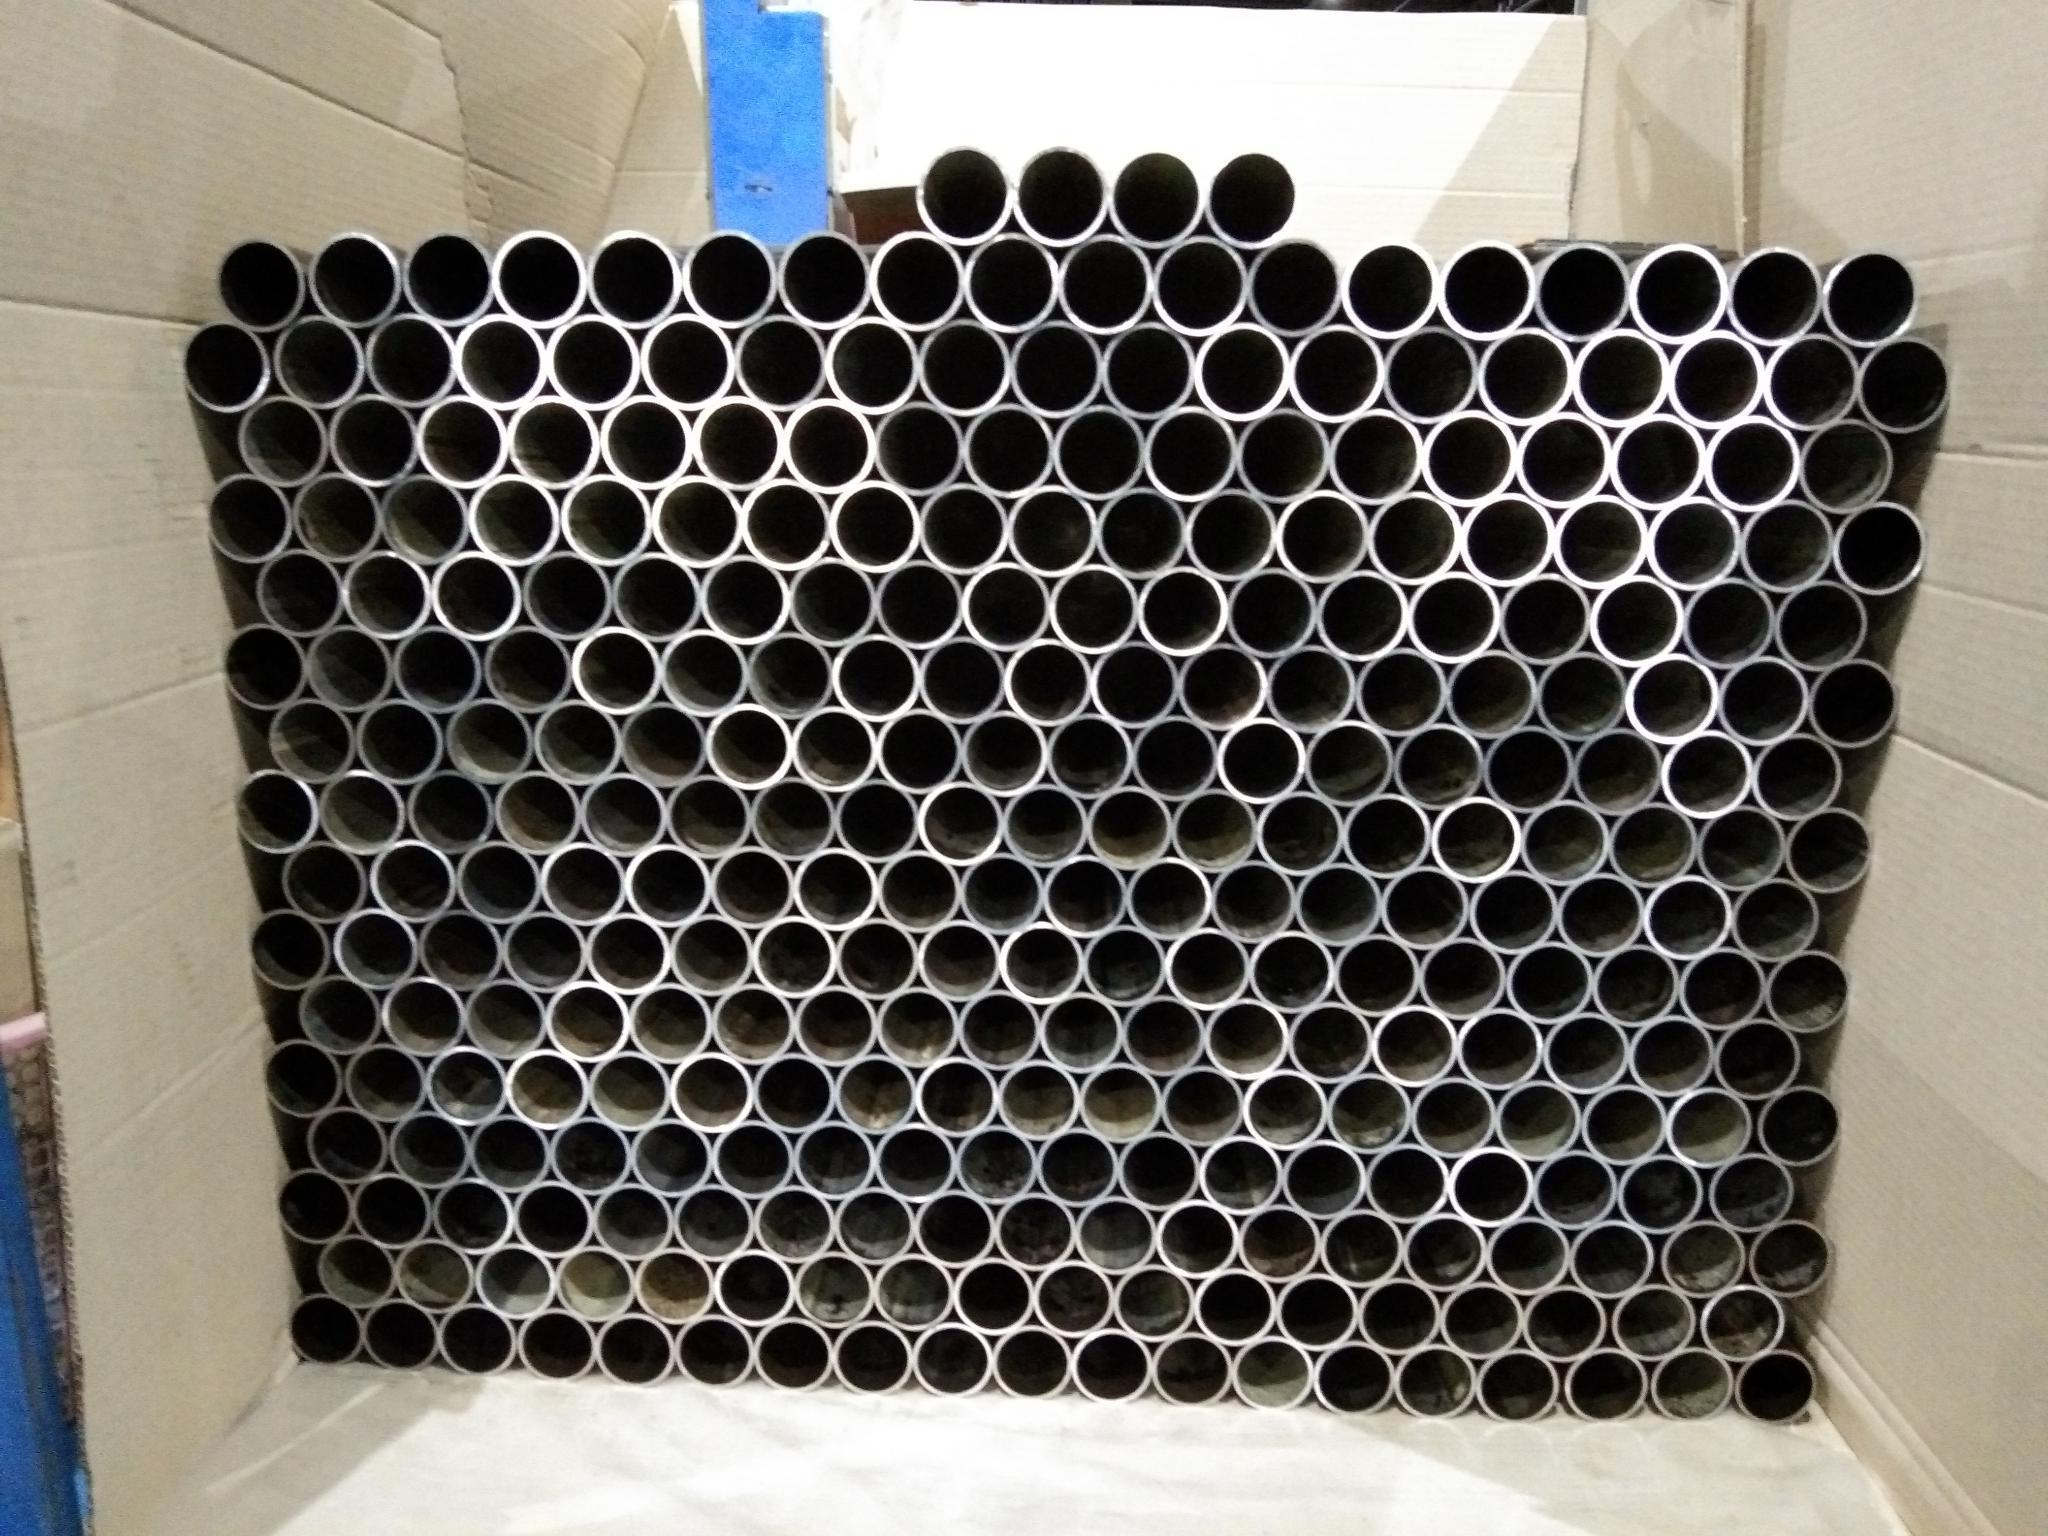pipe: (1629, 240, 1727, 344), (1013, 139, 1109, 244), (1203, 144, 1301, 245), (1108, 144, 1205, 247), (1151, 232, 1248, 336), (1247, 232, 1343, 336), (918, 139, 1013, 244), (1822, 245, 1921, 345), (1667, 328, 1766, 428), (1725, 244, 1822, 345), (585, 229, 684, 328), (1342, 236, 1438, 336), (1438, 237, 1535, 337), (1534, 240, 1630, 340), (1382, 323, 1479, 423), (1572, 326, 1669, 426), (1856, 332, 1953, 432), (964, 231, 1059, 332), (1763, 329, 1858, 431), (1056, 232, 1151, 332), (1193, 319, 1288, 419), (1477, 324, 1572, 424), (211, 234, 308, 331), (684, 227, 779, 326), (402, 227, 497, 326), (777, 229, 872, 328), (1288, 323, 1384, 421), (1235, 405, 1330, 503), (1421, 408, 1516, 507), (1609, 411, 1705, 510), (1705, 413, 1800, 511), (1738, 495, 1834, 594), (871, 231, 964, 331), (734, 311, 827, 411), (918, 316, 1011, 416), (1101, 319, 1195, 419), (640, 311, 735, 408), (1516, 410, 1611, 507), (1459, 490, 1555, 587), (1645, 494, 1740, 591), (495, 229, 589, 328), (547, 311, 640, 410), (1143, 403, 1237, 502), (1009, 316, 1101, 416), (598, 394, 693, 489), (1366, 489, 1461, 584), (1553, 494, 1648, 589), (1680, 574, 1775, 670), (310, 231, 403, 328), (455, 311, 548, 408), (1329, 407, 1422, 503), (1798, 415, 1892, 511), (826, 315, 918, 413), (782, 395, 874, 494), (273, 313, 366, 408), (179, 316, 273, 411), (1053, 403, 1147, 499), (1276, 487, 1369, 582), (1834, 499, 1927, 594), (1406, 570, 1501, 663), (364, 311, 456, 408), (872, 399, 964, 495), (963, 400, 1055, 497), (506, 394, 600, 487), (1498, 571, 1592, 665), (1590, 573, 1684, 666), (1774, 578, 1867, 671), (692, 395, 784, 490), (1095, 482, 1187, 578), (1185, 486, 1277, 581), (327, 392, 419, 486), (561, 473, 653, 566), (829, 479, 921, 573), (1314, 568, 1408, 660), (1535, 649, 1629, 741), (1006, 482, 1097, 578), (239, 394, 331, 486), (610, 552, 701, 644), (482, 623, 574, 715), (1625, 652, 1717, 744), (1717, 653, 1809, 745), (1808, 657, 1900, 749), (1571, 724, 1663, 816), (418, 394, 508, 487), (381, 471, 471, 565), (469, 473, 560, 566), (918, 481, 1008, 574), (1480, 721, 1574, 812), (653, 474, 743, 566), (742, 478, 832, 570), (431, 549, 522, 639), (522, 549, 613, 641), (1137, 565, 1229, 655), (1226, 565, 1316, 657), (392, 623, 484, 713), (1355, 645, 1447, 736), (1443, 649, 1535, 739), (293, 470, 382, 563), (343, 549, 434, 639), (1663, 728, 1753, 818), (1751, 729, 1842, 820), (1050, 561, 1138, 653), (1392, 721, 1484, 810), (1729, 874, 1821, 963), (206, 471, 293, 565), (256, 547, 345, 637), (700, 553, 789, 644), (787, 557, 877, 645), (876, 558, 964, 649), (963, 560, 1051, 650), (572, 624, 661, 715), (747, 629, 835, 720), (832, 631, 921, 721), (918, 632, 1006, 723), (1090, 637, 1179, 728), (1177, 641, 1266, 731), (1264, 644, 1355, 733), (445, 695, 535, 784), (1303, 718, 1393, 807), (1695, 803, 1787, 891), (305, 623, 393, 712), (660, 628, 748, 716), (1005, 637, 1093, 726), (619, 699, 708, 787), (1218, 715, 1306, 803), (579, 770, 668, 858), (1256, 787, 1345, 876), (219, 623, 310, 710), (269, 695, 356, 786), (406, 768, 497, 855), (1430, 795, 1521, 883), (1519, 799, 1609, 886), (1606, 800, 1696, 887), (1467, 866, 1558, 954), (1556, 870, 1646, 957), (356, 697, 445, 784), (534, 697, 621, 786), (706, 702, 793, 791), (876, 707, 963, 795), (1045, 712, 1134, 799), (1130, 713, 1219, 800), (495, 768, 582, 857), (664, 771, 751, 860), (748, 774, 837, 862), (1342, 792, 1430, 879), (1642, 874, 1732, 960), (1379, 865, 1471, 949), (1629, 1012, 1716, 1099), (1085, 783, 1172, 870), (1785, 805, 1872, 892), (1126, 854, 1213, 941), (318, 768, 406, 854), (1505, 939, 1593, 1025), (1664, 1084, 1755, 1168), (1285, 999, 1372, 1084), (1371, 1002, 1458, 1087), (1543, 1008, 1629, 1096), (792, 705, 877, 792), (961, 708, 1047, 795), (834, 778, 921, 863), (1003, 779, 1089, 866), (1171, 786, 1258, 871), (369, 837, 456, 923), (540, 841, 627, 926), (1332, 931, 1419, 1016), (1592, 942, 1679, 1028), (1455, 1007, 1543, 1091), (281, 839, 369, 923), (1417, 936, 1506, 1020), (1764, 949, 1853, 1033), (711, 981, 797, 1066), (1121, 992, 1206, 1078), (1203, 995, 1288, 1081), (919, 779, 1005, 865), (456, 837, 542, 923), (626, 842, 711, 928), (876, 847, 961, 933), (751, 913, 837, 999), (1164, 925, 1250, 1010), (1248, 928, 1334, 1013), (629, 979, 713, 1066), (1409, 1075, 1496, 1158), (1493, 1078, 1580, 1162), (1530, 1147, 1617, 1231), (235, 766, 319, 854), (959, 849, 1043, 936), (1209, 858, 1297, 942), (1293, 862, 1380, 945), (1679, 945, 1766, 1029), (1714, 1016, 1803, 1099), (1706, 1150, 1795, 1233), (1616, 1152, 1705, 1234), (545, 979, 631, 1063), (956, 987, 1042, 1071), (1039, 989, 1122, 1075), (997, 1055, 1080, 1141), (1077, 1058, 1163, 1142), (1159, 1063, 1245, 1147), (1326, 1070, 1411, 1154), (710, 844, 795, 928), (793, 845, 877, 931), (418, 907, 503, 991), (502, 908, 587, 992), (585, 912, 671, 995), (669, 912, 755, 995), (1082, 921, 1166, 1007), (1580, 1083, 1667, 1165), (1756, 1084, 1843, 1167), (1367, 1144, 1455, 1226), (1567, 1217, 1656, 1297), (793, 983, 877, 1066), (876, 984, 959, 1068), (506, 1046, 590, 1129), (589, 1049, 672, 1133), (834, 1050, 918, 1134), (1243, 1066, 1327, 1150), (1118, 1128, 1201, 1212), (1280, 1136, 1364, 1220), (1043, 854, 1127, 937), (835, 916, 919, 1000), (918, 918, 1001, 1002), (1000, 920, 1084, 1004), (298, 973, 384, 1055), (382, 975, 468, 1057), (669, 1050, 755, 1133), (1035, 1125, 1121, 1207), (1485, 1213, 1571, 1296), (334, 907, 419, 989), (247, 907, 332, 989), (1658, 1218, 1746, 1297), (463, 978, 547, 1060), (751, 1050, 835, 1133), (916, 1054, 998, 1137), (1198, 1133, 1282, 1215), (1237, 1200, 1321, 1283), (1401, 1210, 1485, 1292), (1438, 1279, 1522, 1362), (1448, 1146, 1534, 1226), (1746, 1217, 1832, 1297), (1609, 1283, 1696, 1362), (1563, 1346, 1650, 1425), (874, 1120, 956, 1202), (955, 1123, 1037, 1205), (1319, 1205, 1401, 1288), (793, 1249, 876, 1331), (872, 1250, 955, 1333), (343, 1041, 427, 1121), (550, 1115, 634, 1196), (1356, 1275, 1440, 1355), (1522, 1283, 1608, 1362), (1700, 1283, 1785, 1362), (426, 1042, 506, 1125), (631, 1117, 713, 1197), (713, 1118, 795, 1199), (793, 1120, 876, 1200), (592, 1179, 674, 1260), (834, 1184, 916, 1265), (914, 1187, 997, 1268), (993, 1191, 1076, 1271), (1074, 1194, 1156, 1275), (1156, 1197, 1238, 1278), (634, 1246, 716, 1326), (713, 1247, 795, 1328), (953, 1255, 1035, 1336), (1193, 1267, 1276, 1347), (1276, 1270, 1358, 1350), (1232, 1333, 1314, 1413), (672, 1183, 756, 1262), (1476, 1346, 1559, 1425), (1650, 1346, 1734, 1425), (1735, 1347, 1819, 1426), (263, 1037, 343, 1118), (1034, 1258, 1114, 1339), (595, 1309, 676, 1389), (753, 1313, 834, 1394), (832, 1317, 913, 1397), (306, 1104, 389, 1183), (387, 1108, 469, 1187), (468, 1112, 550, 1191), (431, 1175, 513, 1254), (753, 1184, 835, 1263), (1151, 1329, 1234, 1409), (1313, 1338, 1395, 1417), (1393, 1342, 1476, 1421), (555, 1244, 635, 1323), (1113, 1262, 1193, 1341), (518, 1304, 597, 1384), (674, 1312, 755, 1391), (992, 1323, 1072, 1402), (474, 1241, 556, 1318), (352, 1170, 431, 1249), (1072, 1326, 1151, 1405), (513, 1179, 593, 1257), (913, 1321, 993, 1399), (437, 1300, 516, 1378), (361, 1296, 439, 1373), (318, 1233, 397, 1309), (395, 1238, 476, 1312), (276, 1170, 353, 1246), (287, 1291, 361, 1368)
